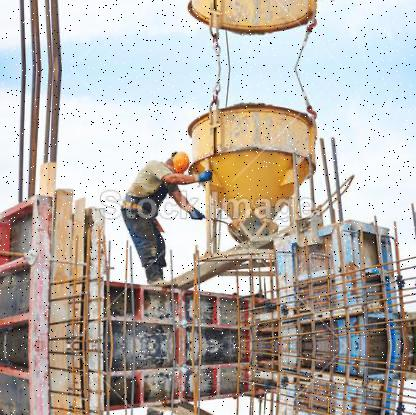helmet: (166, 148, 193, 176)
